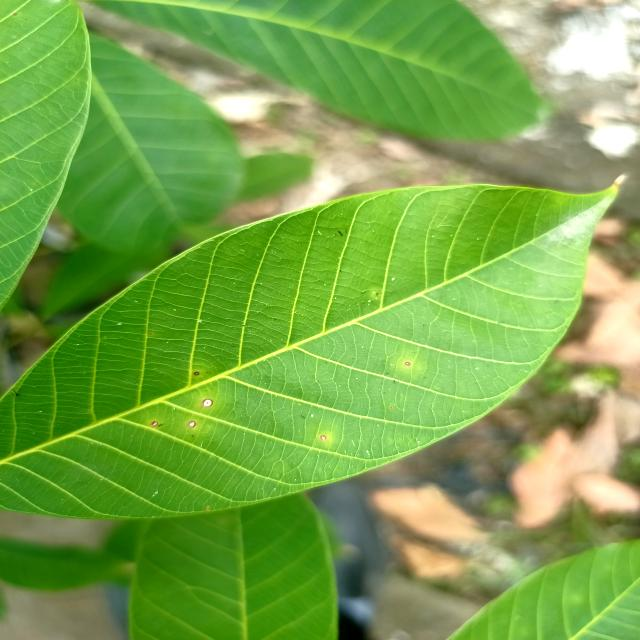Colletotrichum: (203, 398, 213, 406), (188, 421, 196, 427), (320, 435, 327, 440), (152, 421, 158, 426), (194, 372, 200, 376), (405, 362, 410, 366)
